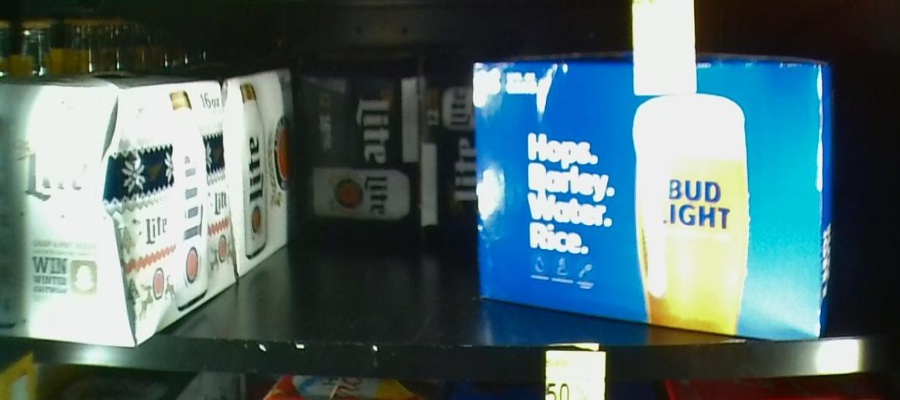bottle: (476, 56, 830, 339), (1, 81, 218, 339), (297, 61, 418, 231), (426, 58, 475, 243)
